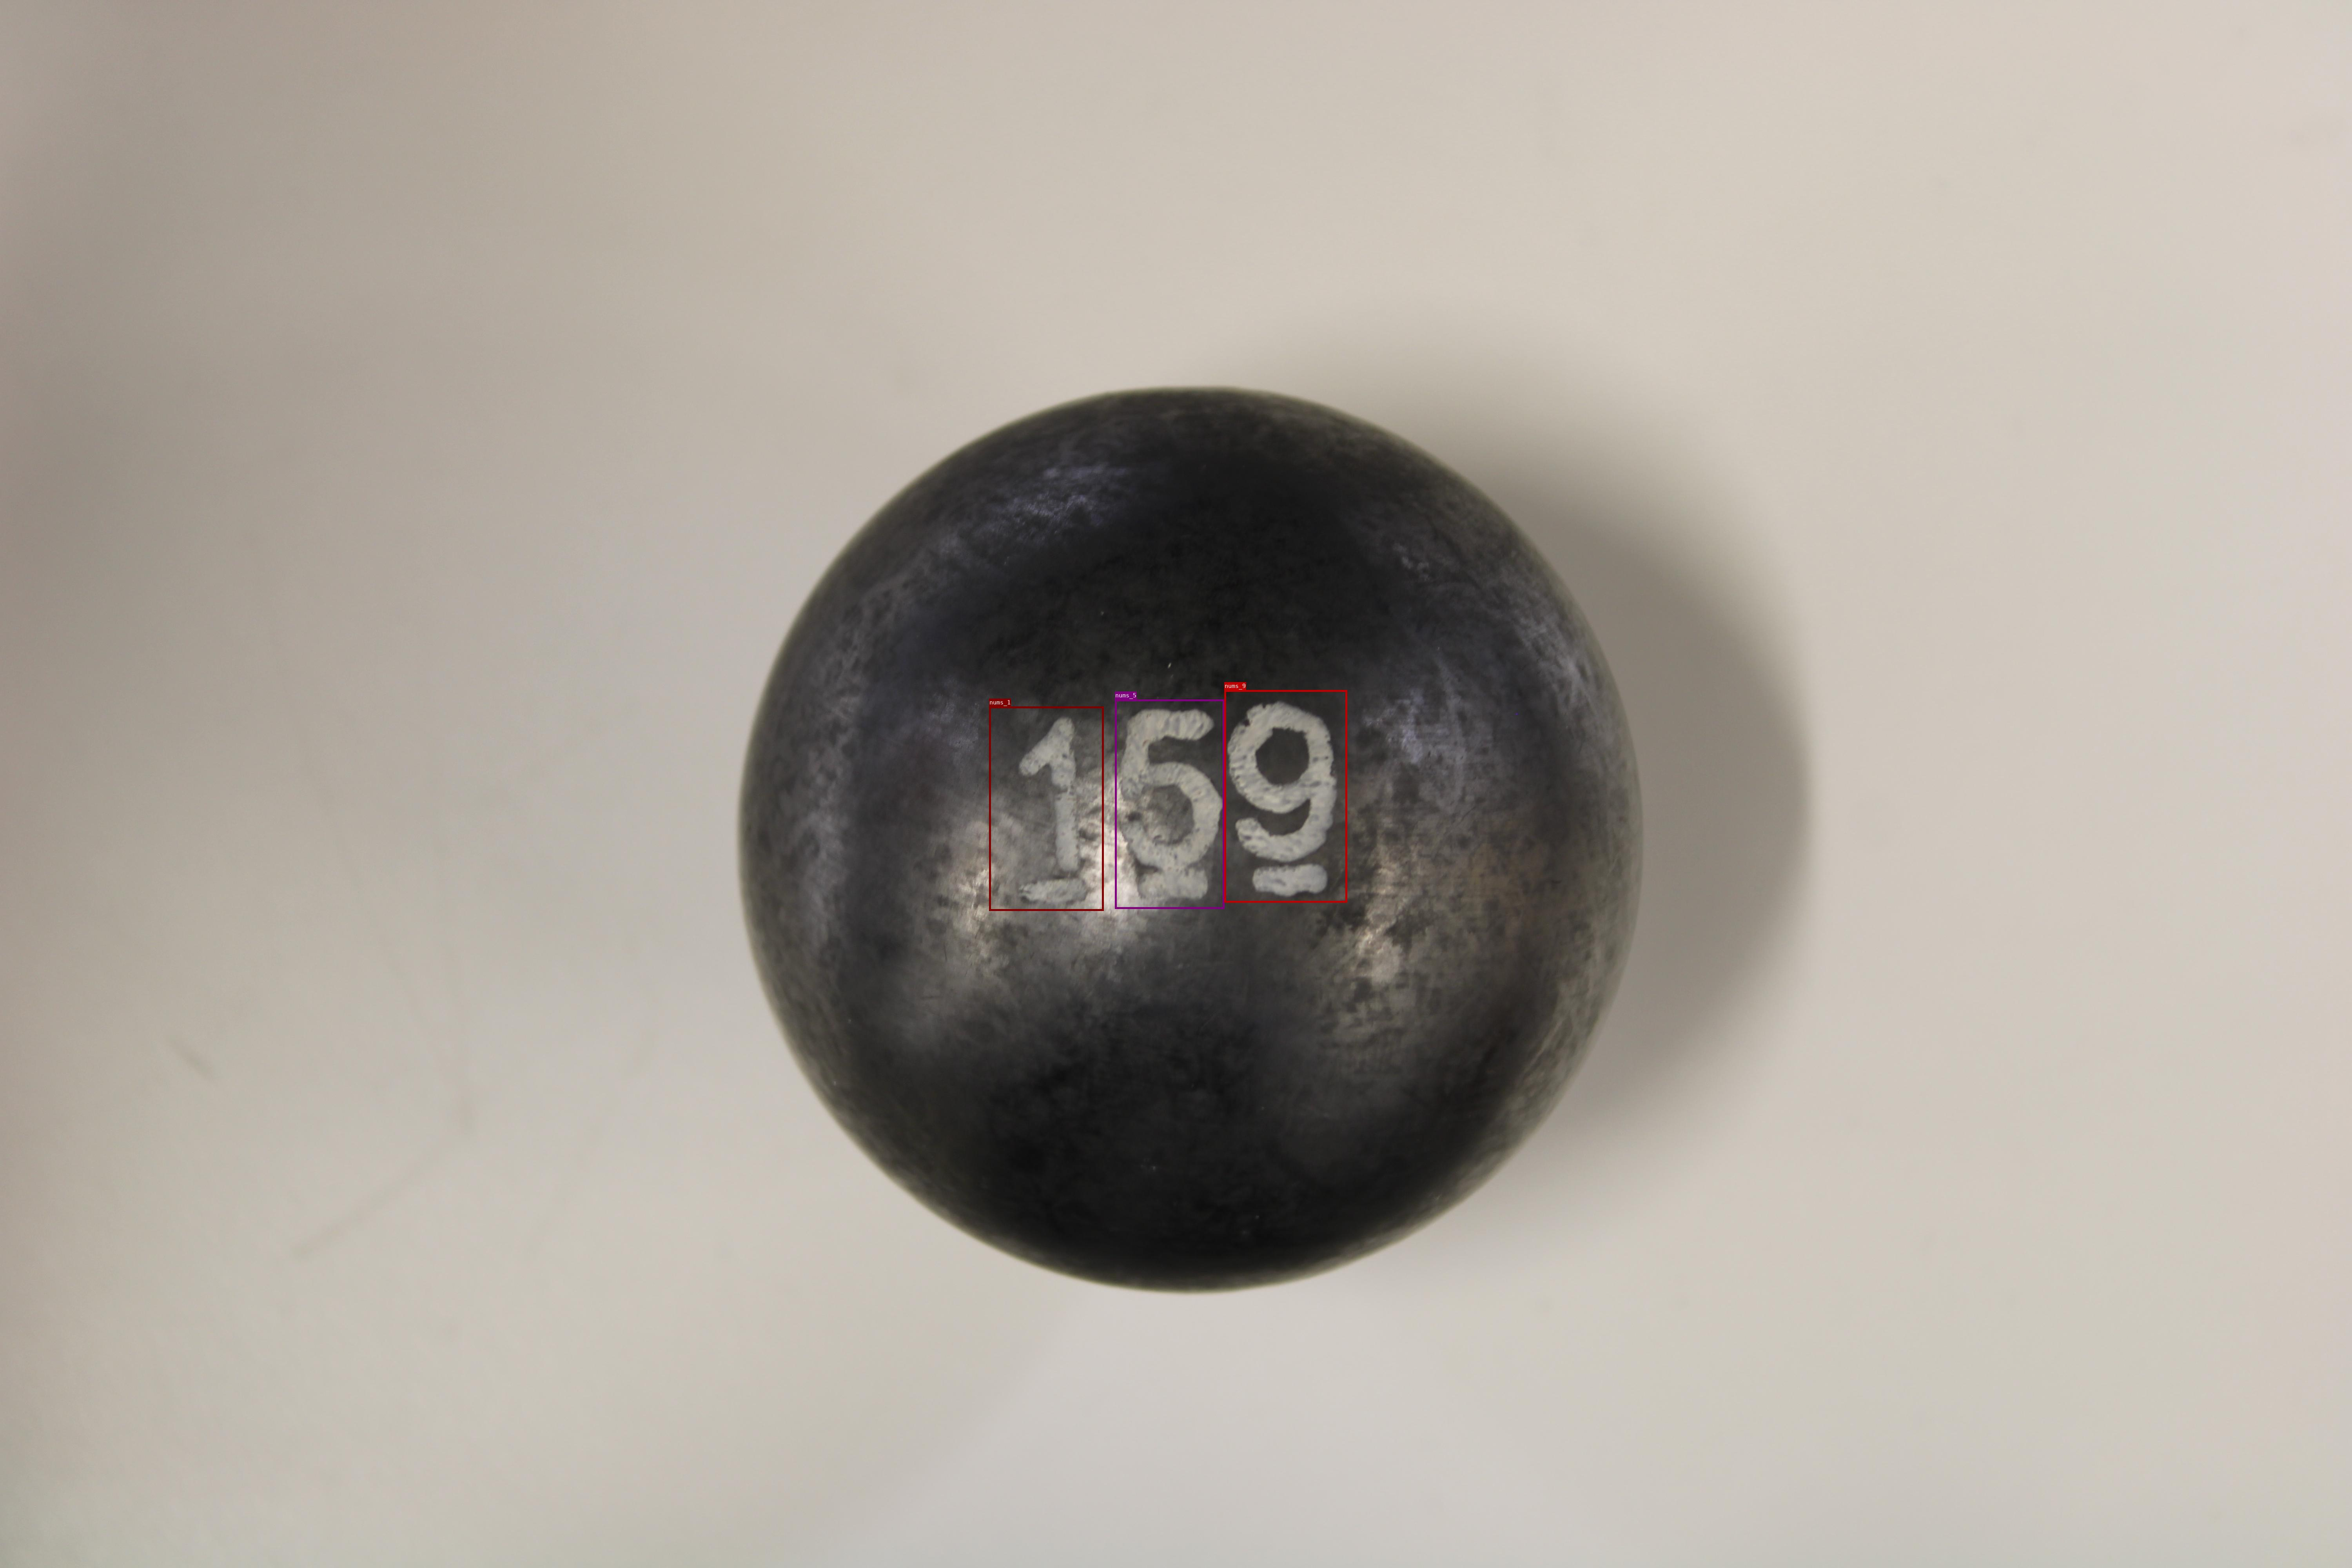nums_1: (989, 707, 1104, 910)
nums_5: (1115, 700, 1225, 908)
nums_9: (1225, 690, 1347, 903)
